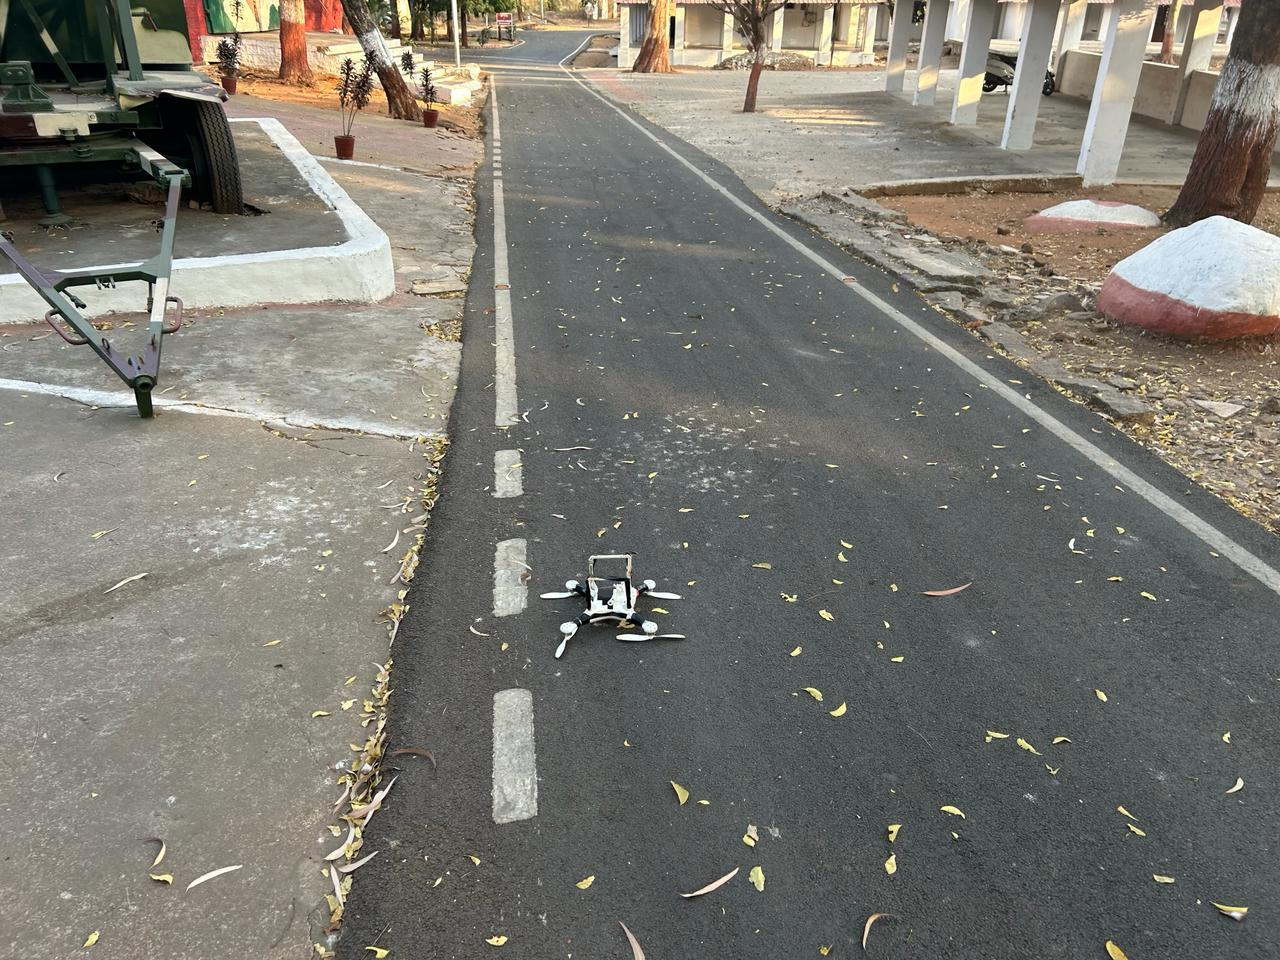drone: (530, 494, 713, 694)
